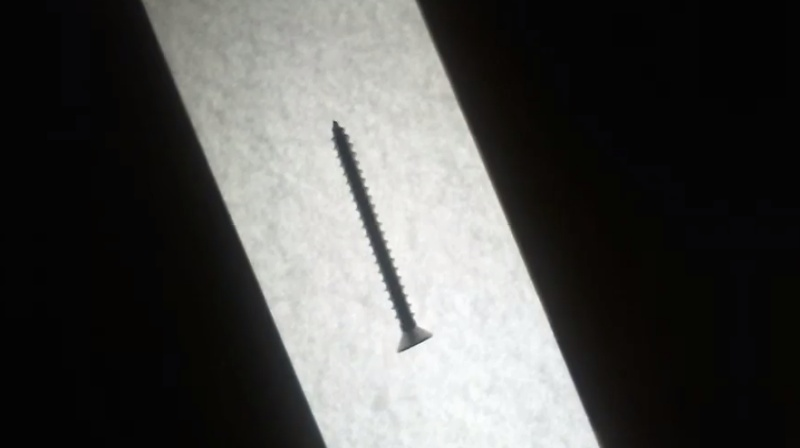S002: (328, 117, 437, 356)
